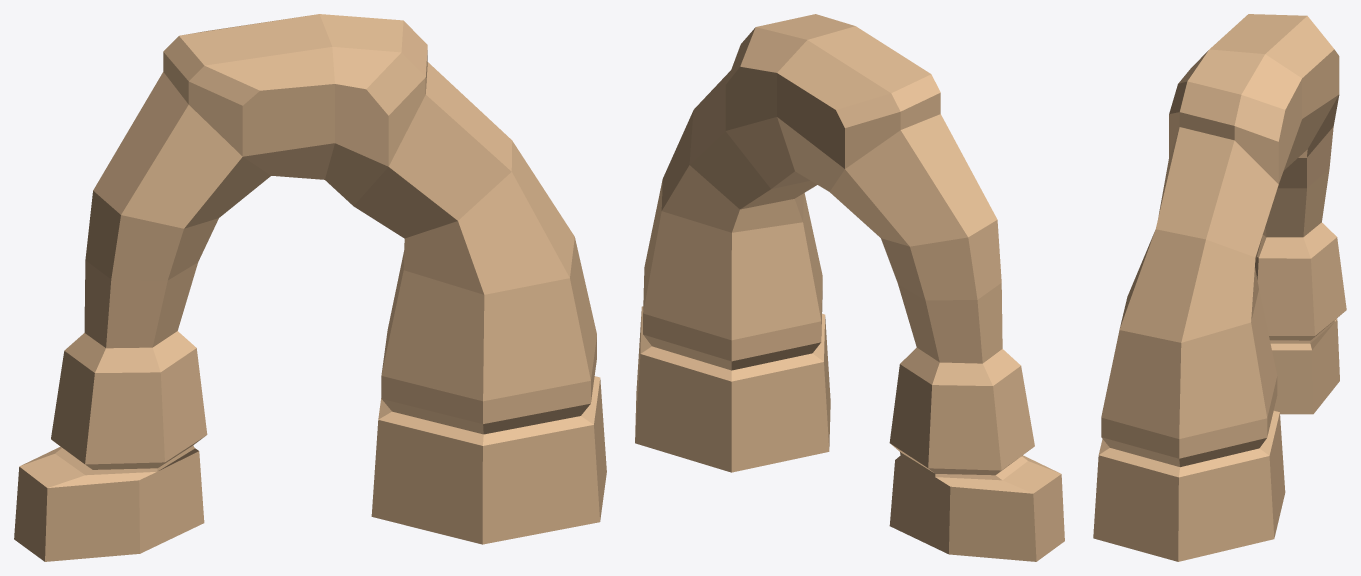
The model's file is Rock_Arch_02.fbx.
The picture shows the model from 3 angles, left to right: view 1: azimuth 30°, elevation 25°; view 2: azimuth 150°, elevation 25°; view 3: azimuth 270°, elevation 25°; orthographic projection. The views are drawn at different scales.
Parts seen in each view (by area): view 1: Rock_Arch_02; view 2: Rock_Arch_02; view 3: Rock_Arch_02.
Boxes of the visible parts, x1,y1,x2,y2 form: Rock_Arch_02: (14, 14, 606, 561); Rock_Arch_02: (635, 14, 1064, 561); Rock_Arch_02: (1093, 14, 1346, 561).
Bounding box in the file's own units: 1040 × 926 × 520.
